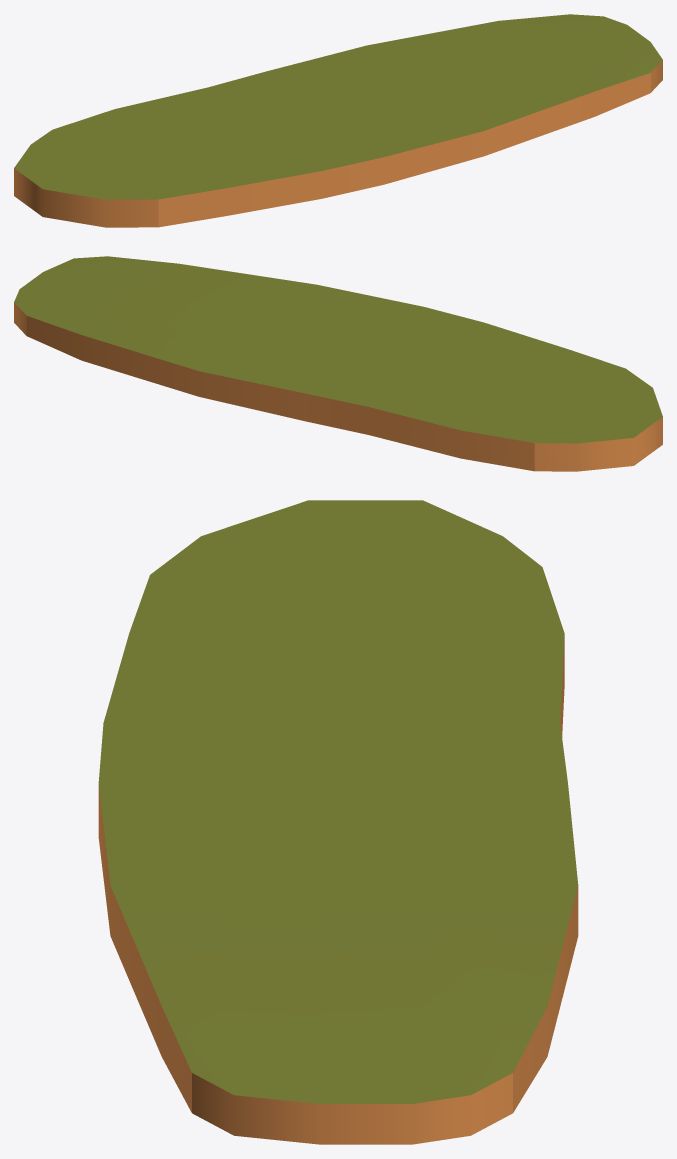
The model's file is Wall v1 Base.fbx.
3 views of the same model, one above another, from view 1: azimuth 30°, elevation 25°; view 2: azimuth 150°, elevation 25°; view 3: azimuth 270°, elevation 25° (orthographic). The views are drawn at different scales.
Parts seen in each view (by area): view 1: polySurface115; view 2: polySurface115; view 3: polySurface115.
Boxes of the visible parts, x1,y1,x2,y2 form: polySurface115: (14, 14, 662, 227); polySurface115: (14, 256, 662, 471); polySurface115: (98, 500, 578, 1144).
Size of the model in its own units: 2166 by 94.27 by 736.
